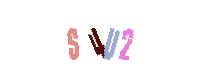2: (69, 0, 149, 80)
4: (57, 0, 137, 80)
S: (57, 0, 137, 80)
U: (59, 0, 139, 80)
